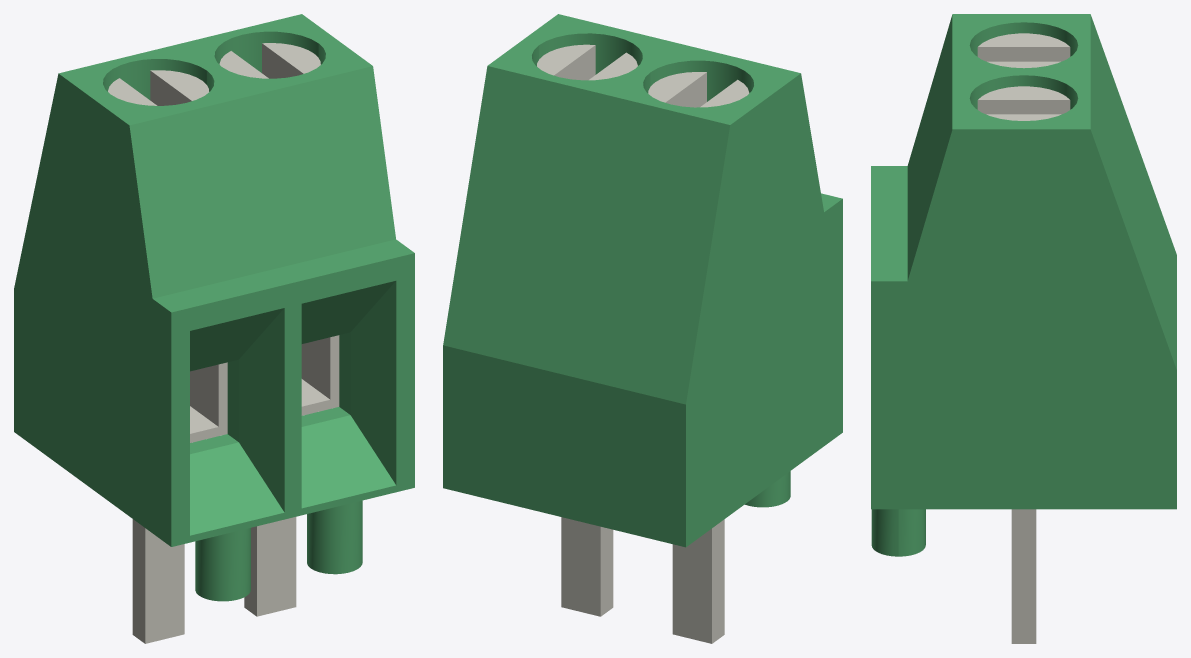
Rendered from kc-terminalblock_phoenix_mpt-0_5-2-2.54_1x02_p2.54mm_horizontal.glb.
3 views of the same model, side by side, from view 1: azimuth 30°, elevation 25°; view 2: azimuth 150°, elevation 25°; view 3: azimuth 270°, elevation 25° (orthographic). The views are drawn at different scales.
Visible parts, largest first — view 1: 0.08333333333333333_0.4166666666666667_0.16666666666666666_0, 0.6666666666666666_0.6666666666666666_0.5833333333333334_0.8; view 2: 0.08333333333333333_0.4166666666666667_0.16666666666666666_0, 0.6666666666666666_0.6666666666666666_0.5833333333333334_0.8; view 3: 0.08333333333333333_0.4166666666666667_0.16666666666666666_0, 0.6666666666666666_0.6666666666666666_0.5833333333333334_0.8.
Boxes of the visible parts, bbox=[...] form: 0.08333333333333333_0.4166666666666667_0.16666666666666666_0: bbox=[14, 14, 414, 601]; 0.6666666666666666_0.6666666666666666_0.5833333333333334_0.8: bbox=[108, 43, 339, 643]; 0.08333333333333333_0.4166666666666667_0.16666666666666666_0: bbox=[443, 14, 842, 547]; 0.6666666666666666_0.6666666666666666_0.5833333333333334_0.8: bbox=[537, 44, 749, 643]; 0.08333333333333333_0.4166666666666667_0.16666666666666666_0: bbox=[871, 14, 1176, 556]; 0.6666666666666666_0.6666666666666666_0.5833333333333334_0.8: bbox=[977, 33, 1070, 643].
Bounding box in the file's own units: 0.554 × 1.2 × 0.62.
